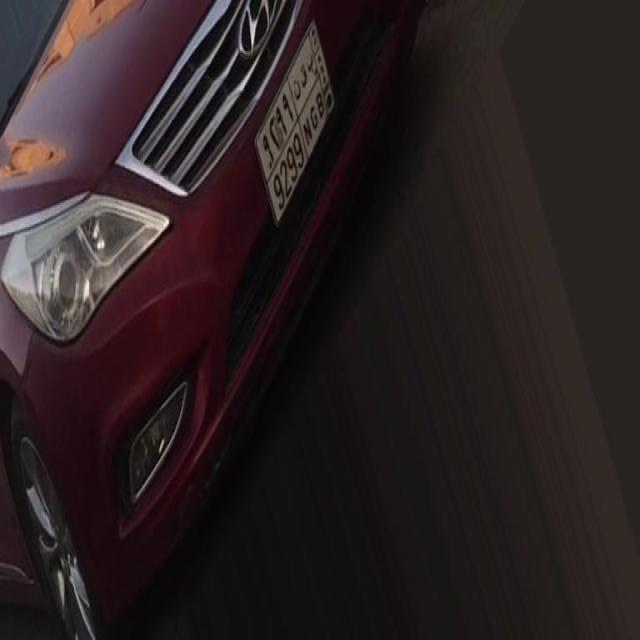Car-plate: (246, 12, 350, 250)
